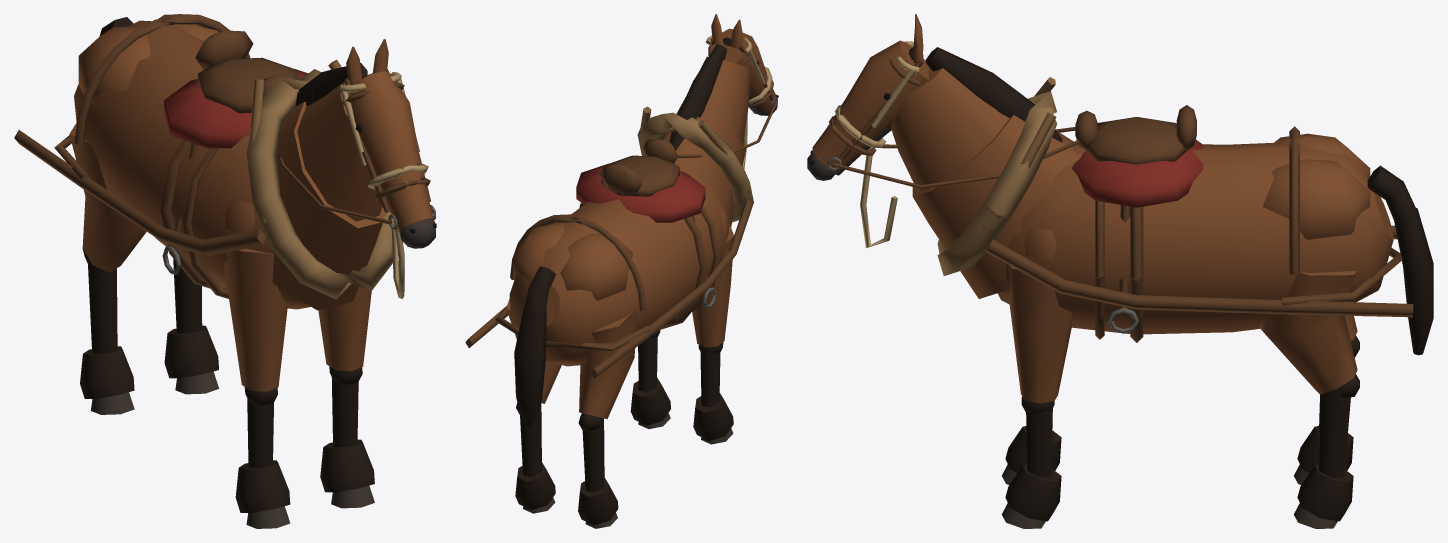
File: animal_horse_draught.glb
The picture shows the model from 3 angles, left to right: view 1: azimuth 30°, elevation 25°; view 2: azimuth 150°, elevation 25°; view 3: azimuth 270°, elevation 25°; orthographic projection. The views are drawn at different scales.
Parts seen in each view (by area): view 1: body, saddle, collar, neck, harness, head, neck2, legU_FR, legU_BR, legU_FL, hoof_FL, hoof_FR (+10 smaller); view 2: body, saddle, harness, neck2, collar, legU_BR, tail2, neck, legU_FR, legL_BR, hoof_FR, hoof_FL (+10 smaller); view 3: body, saddle, harness, neck2, neck, legU_BL, collar, legU_FL, head, tail2, hoof_FL, hoof_BL (+9 smaller).
Boxes of the visible parts, x1=… form: body: x1=74, y1=14, x2=310, y2=309; saddle: x1=162, y1=30, x2=307, y2=298; collar: x1=246, y1=59, x2=394, y2=299; neck: x1=272, y1=80, x2=386, y2=310; harness: x1=14, y1=14, x2=265, y2=288; head: x1=351, y1=71, x2=436, y2=248; neck2: x1=297, y1=63, x2=382, y2=221; legU_FR: x1=224, y1=248, x2=287, y2=391; legU_BR: x1=69, y1=123, x2=146, y2=272; legU_FL: x1=318, y1=286, x2=371, y2=371; hoof_FL: x1=320, y1=439, x2=374, y2=508; hoof_FR: x1=235, y1=460, x2=290, y2=528; body: x1=509, y1=170, x2=730, y2=366; saddle: x1=576, y1=139, x2=719, y2=310; harness: x1=465, y1=199, x2=753, y2=378; neck2: x1=676, y1=44, x2=750, y2=143; collar: x1=637, y1=106, x2=753, y2=222; legU_BR: x1=579, y1=311, x2=637, y2=419; tail2: x1=514, y1=306, x2=546, y2=425; neck: x1=661, y1=100, x2=745, y2=227; legU_FR: x1=692, y1=224, x2=733, y2=347; legL_BR: x1=578, y1=413, x2=604, y2=492; hoof_FR: x1=693, y1=393, x2=733, y2=444; hoof_FL: x1=630, y1=378, x2=670, y2=429; body: x1=997, y1=133, x2=1393, y2=334; saddle: x1=1072, y1=105, x2=1203, y2=339; harness: x1=986, y1=126, x2=1413, y2=342; neck2: x1=891, y1=47, x2=1024, y2=191; neck: x1=912, y1=92, x2=1077, y2=298; legU_BL: x1=1259, y1=270, x2=1357, y2=394; collar: x1=937, y1=77, x2=1056, y2=275; legU_FL: x1=1008, y1=265, x2=1071, y2=403; head: x1=807, y1=40, x2=928, y2=180; tail2: x1=1394, y1=207, x2=1433, y2=355; hoof_FL: x1=1002, y1=464, x2=1061, y2=528; hoof_BL: x1=1294, y1=464, x2=1353, y2=528.
Bounding box in the file's own units: 0.8166 × 2.17 × 2.55.
